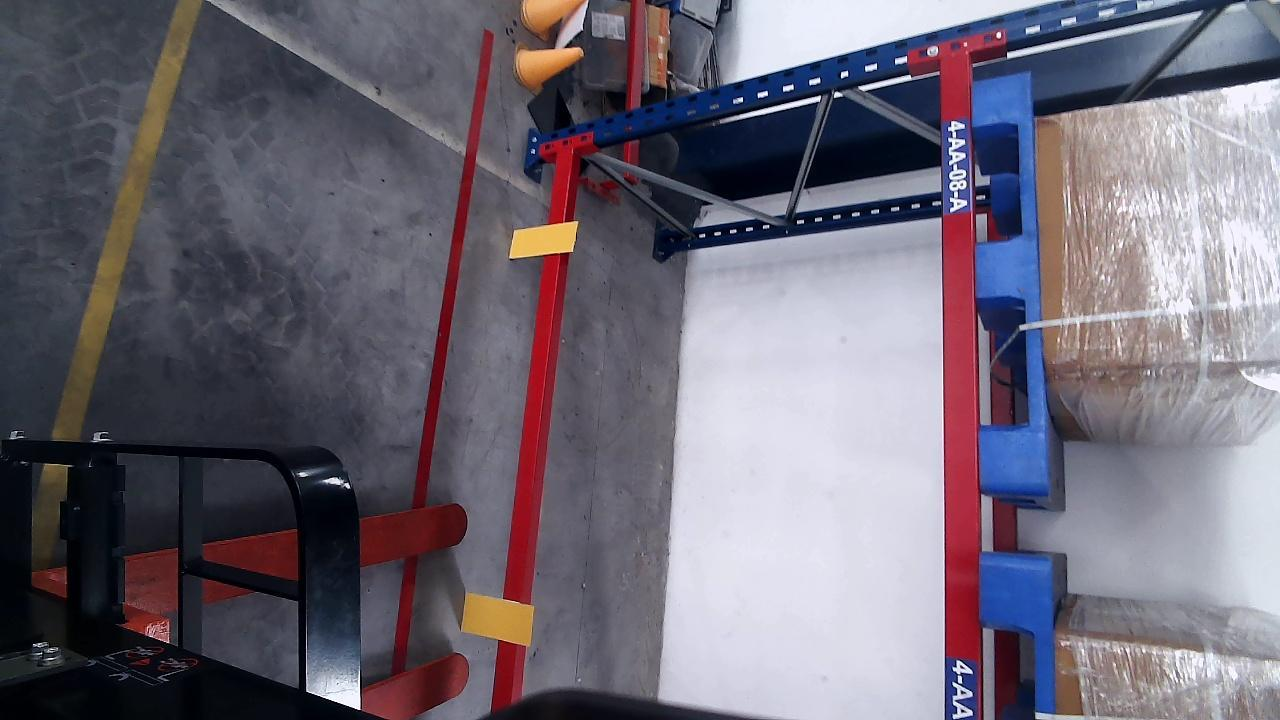h_rack: (492, 152, 577, 714), (938, 54, 976, 720)
orange_strip: (459, 591, 535, 646), (509, 226, 576, 258)
red_line: (410, 27, 497, 509)
small_pallet: (968, 71, 1047, 487), (976, 557, 1057, 720)
yellow_line: (46, 0, 206, 440)
